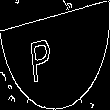P_N: (42, 27, 68, 83)
